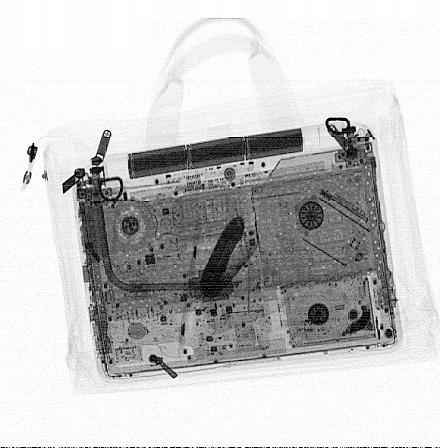Knife: (198, 212, 263, 301)
